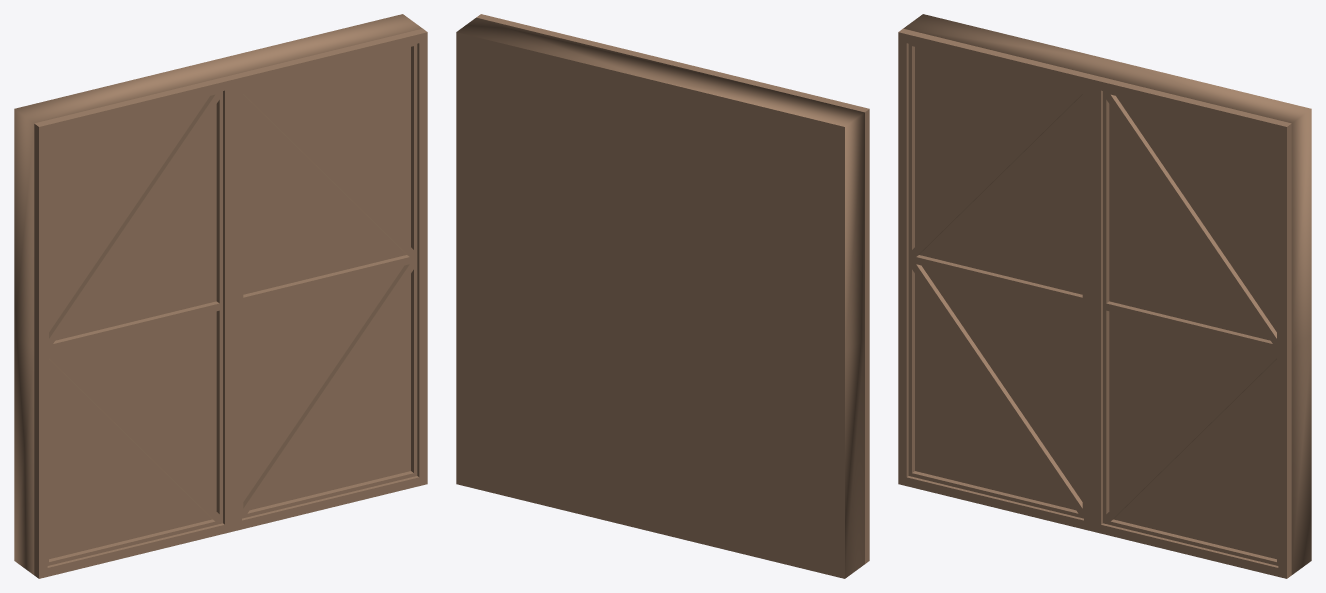
The model's file is ModularWall_003.FBX.
The picture shows the model from 3 angles, left to right: view 1: azimuth 30°, elevation 25°; view 2: azimuth 150°, elevation 25°; view 3: azimuth 330°, elevation 25°; orthographic projection.
Visible parts, largest first — view 1: ModularWall_003; view 2: ModularWall_003; view 3: ModularWall_003.
Part boxes in pixels (<box>): ModularWall_003: <box>14,14,427,578</box>; ModularWall_003: <box>456,14,869,578</box>; ModularWall_003: <box>898,14,1311,578</box>.
Size of the model in its own units: 22.86 by 25.4 by 2.53.
